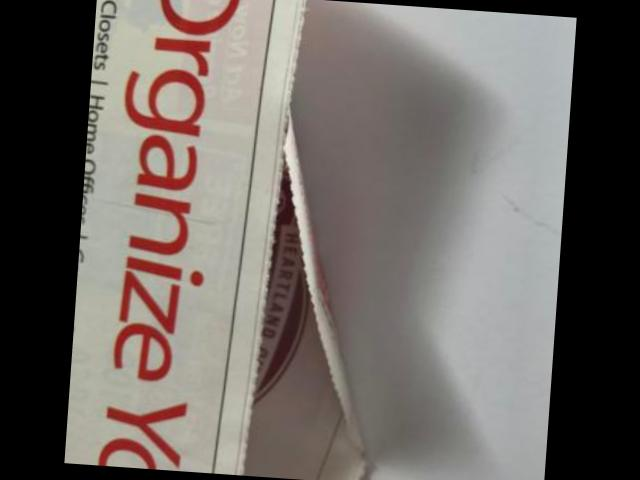cardboard paper: (64, 0, 304, 475)
